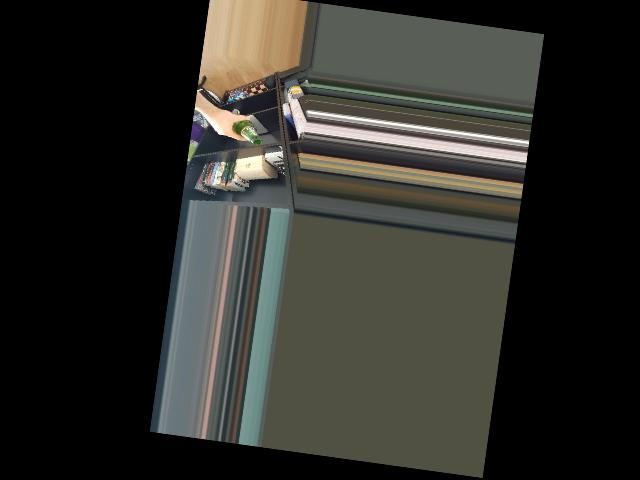beer: (227, 112, 265, 145)
